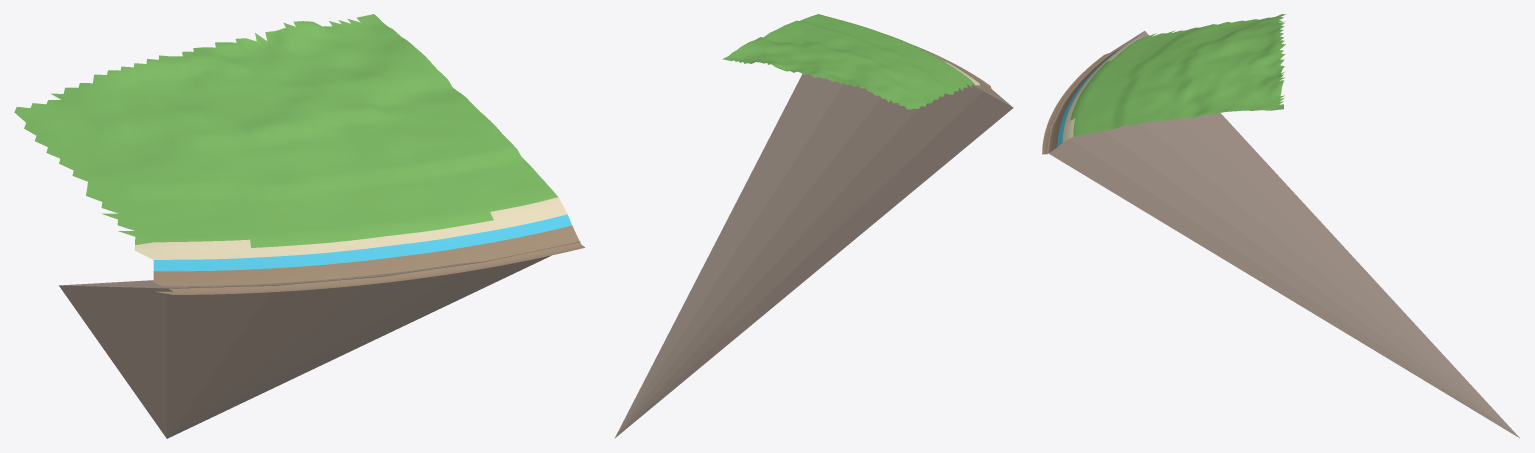
Rendered from flagship_terrain_23.glb.
The picture shows the model from 3 angles, left to right: view 1: azimuth 30°, elevation 25°; view 2: azimuth 150°, elevation 25°; view 3: azimuth 270°, elevation 25°; orthographic projection. The views are drawn at different scales.
Parts seen in each view (by area): view 1: Terrain_23; view 2: Terrain_23; view 3: Terrain_23.
Boxes of the visible parts, x1,y1,x2,y2 form: Terrain_23: (14,14,584,438); Terrain_23: (614,14,1013,438); Terrain_23: (1042,14,1519,438).
Size of the model in its own units: 73.05 by 94 by 121.
